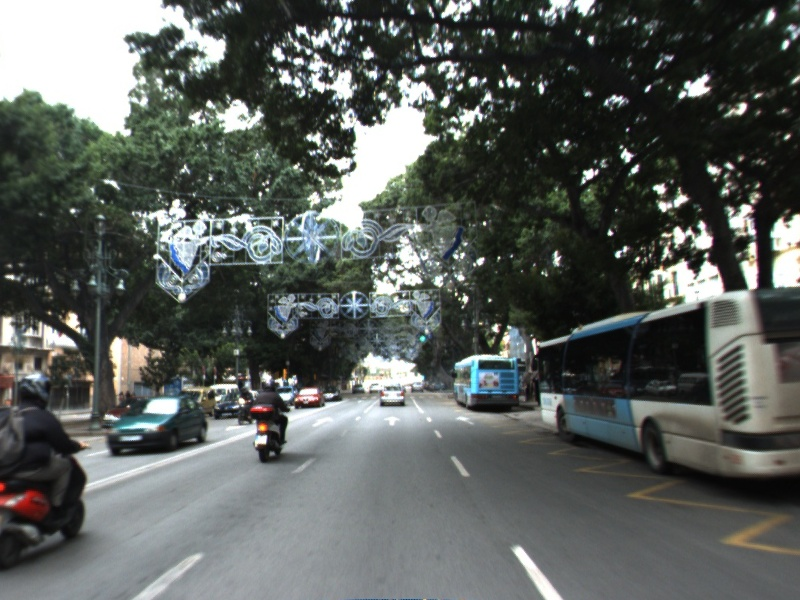STRAIGHT: (453, 413, 479, 427), (310, 415, 336, 429), (381, 413, 403, 428)
